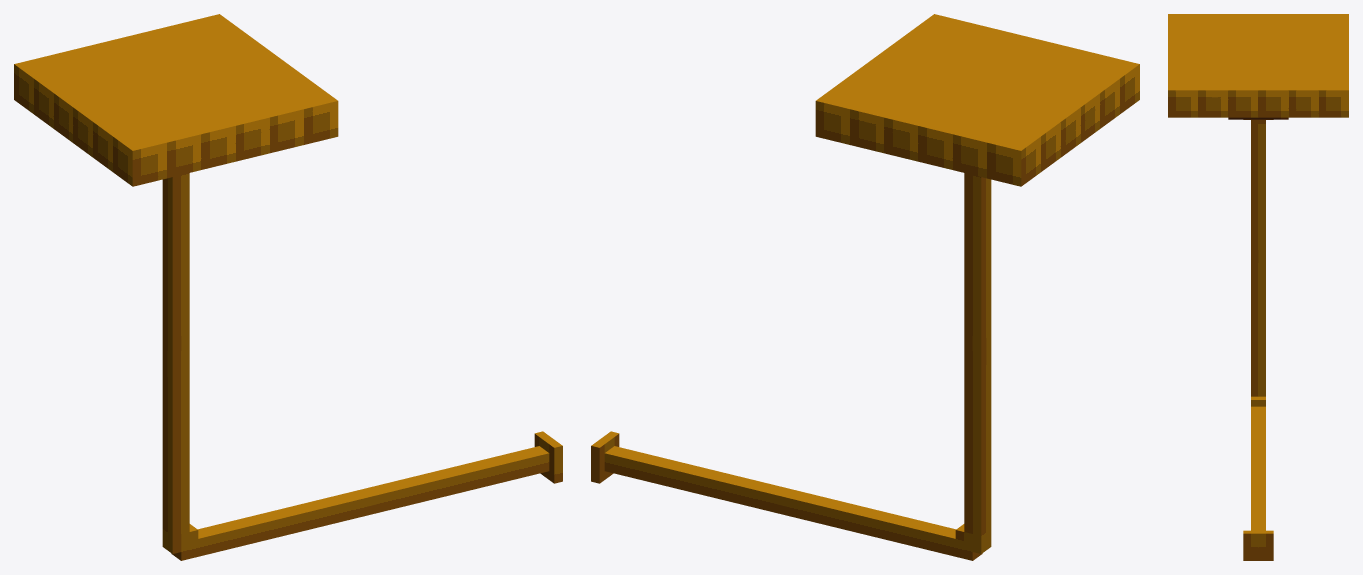
The model's file is telescope_seatao.fezao.glb.
3 views of the same model, side by side, from view 1: azimuth 30°, elevation 25°; view 2: azimuth 150°, elevation 25°; view 3: azimuth 270°, elevation 25° (orthographic). The views are drawn at different scales.
Visible parts, largest first — view 1: TELESCOPE_SEATAO; view 2: TELESCOPE_SEATAO; view 3: TELESCOPE_SEATAO.
Boxes of the visible parts, <box> form: TELESCOPE_SEATAO: <box>14,14,562,560</box>; TELESCOPE_SEATAO: <box>591,14,1139,560</box>; TELESCOPE_SEATAO: <box>1168,14,1348,560</box>.
Size of the model in its own units: 3.5 by 3.38 by 1.5.
1 material, 1 textured.
